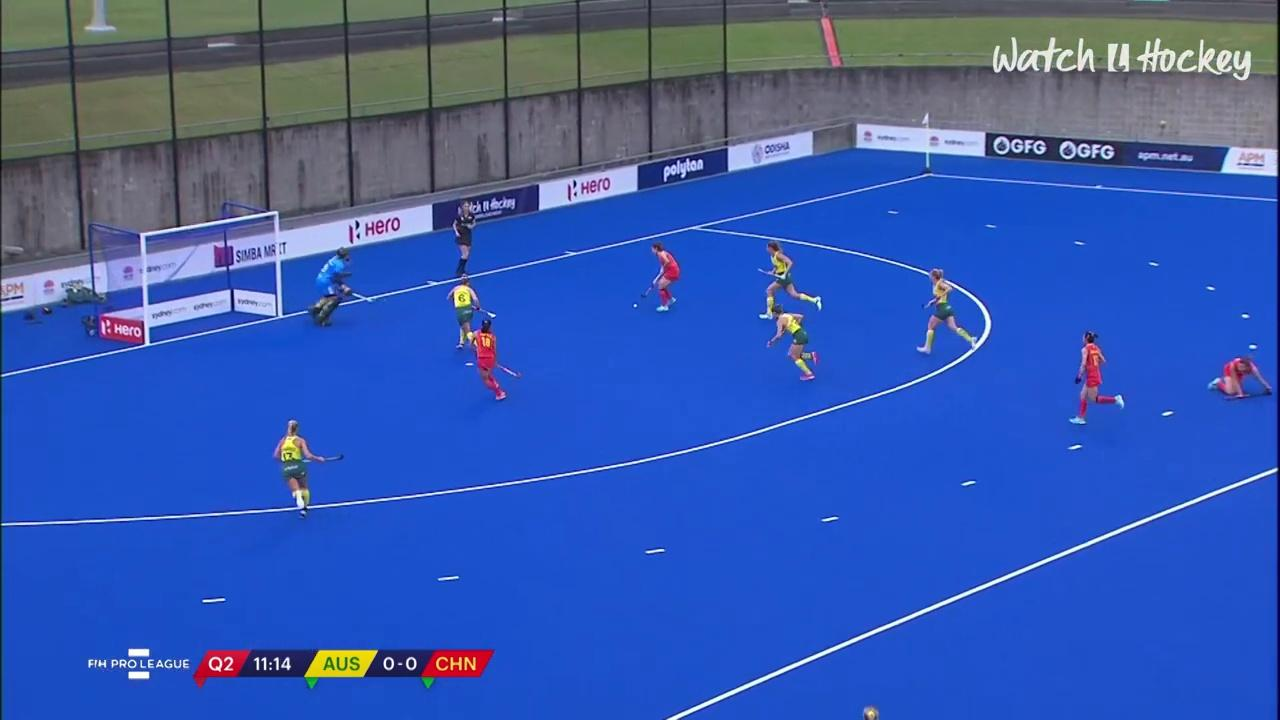ball: (627, 299, 645, 312)
